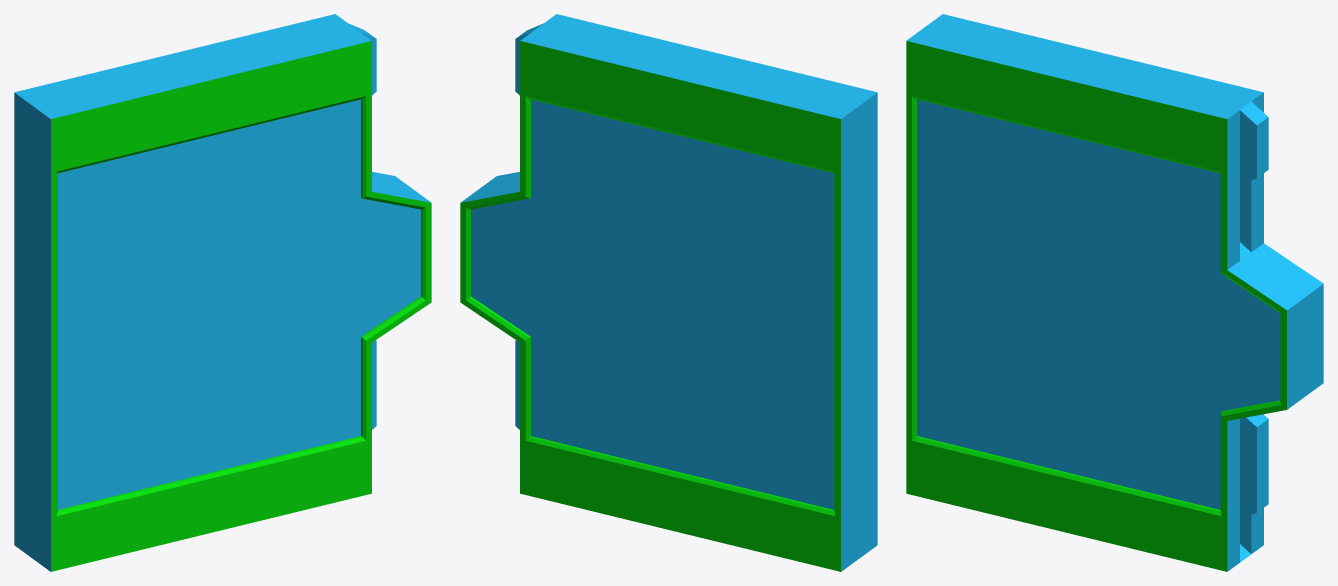
File: door.window.fbx
The picture shows the model from 3 angles, left to right: view 1: azimuth 30°, elevation 25°; view 2: azimuth 150°, elevation 25°; view 3: azimuth 330°, elevation 25°; orthographic projection.
Visible parts, largest first — view 1: door.window; view 2: door.window; view 3: door.window.
Boxes of the visible parts, bbox=[...] form: door.window: bbox=[14, 14, 431, 571]; door.window: bbox=[460, 14, 877, 571]; door.window: bbox=[906, 14, 1323, 571].
Bounding box in the file's own units: 247 × 280 × 41.11.
